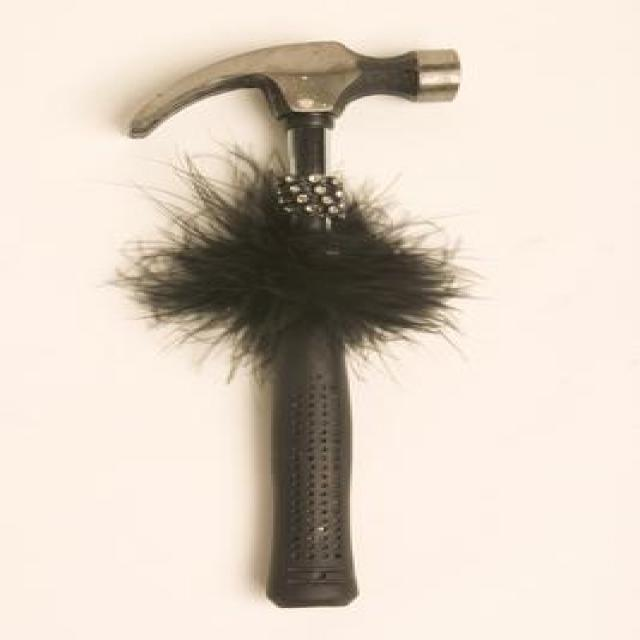hammer: (112, 34, 484, 618)
